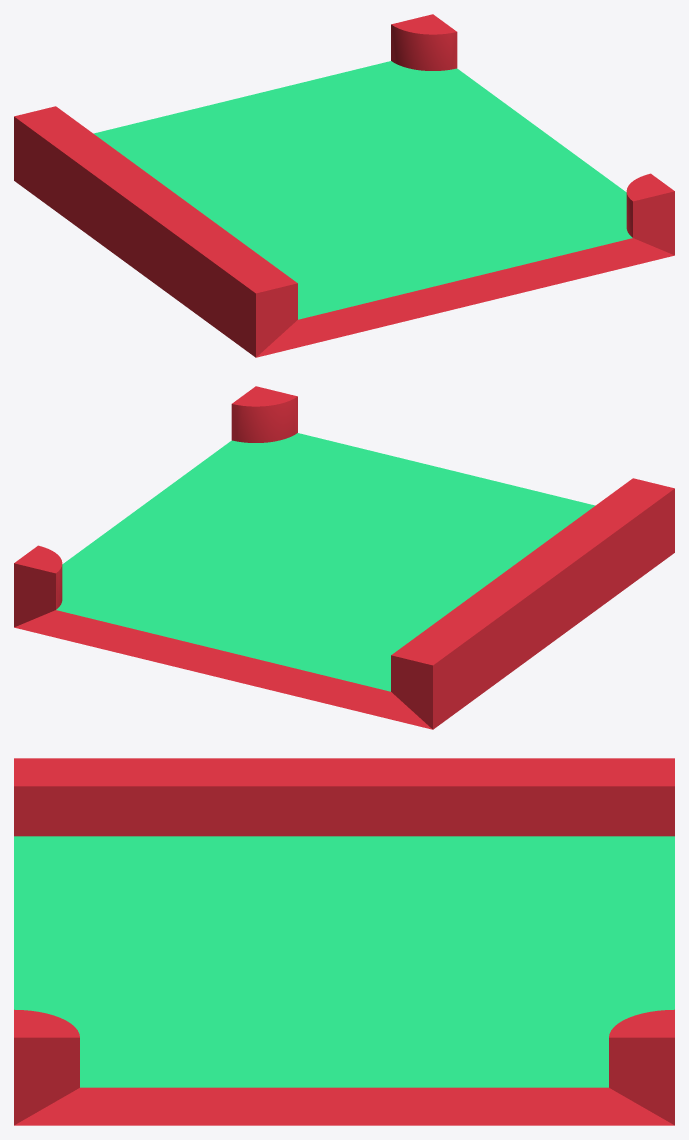
File: splitT.fbx
3 views of the same model, one above another, from view 1: azimuth 30°, elevation 25°; view 2: azimuth 150°, elevation 25°; view 3: azimuth 270°, elevation 25° (orthographic). The views are drawn at different scales.
Parts seen in each view (by area): view 1: splitT; view 2: splitT; view 3: splitT.
Part boxes in pixels (x1,y1,x2,y2): splitT: (14, 14, 674, 357); splitT: (14, 386, 674, 729); splitT: (14, 758, 674, 1125).
Size of the model in its own units: 99.99 by 99.99 by 14.67.
